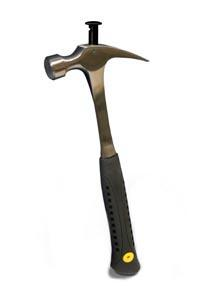hammer: (43, 42, 150, 277)
